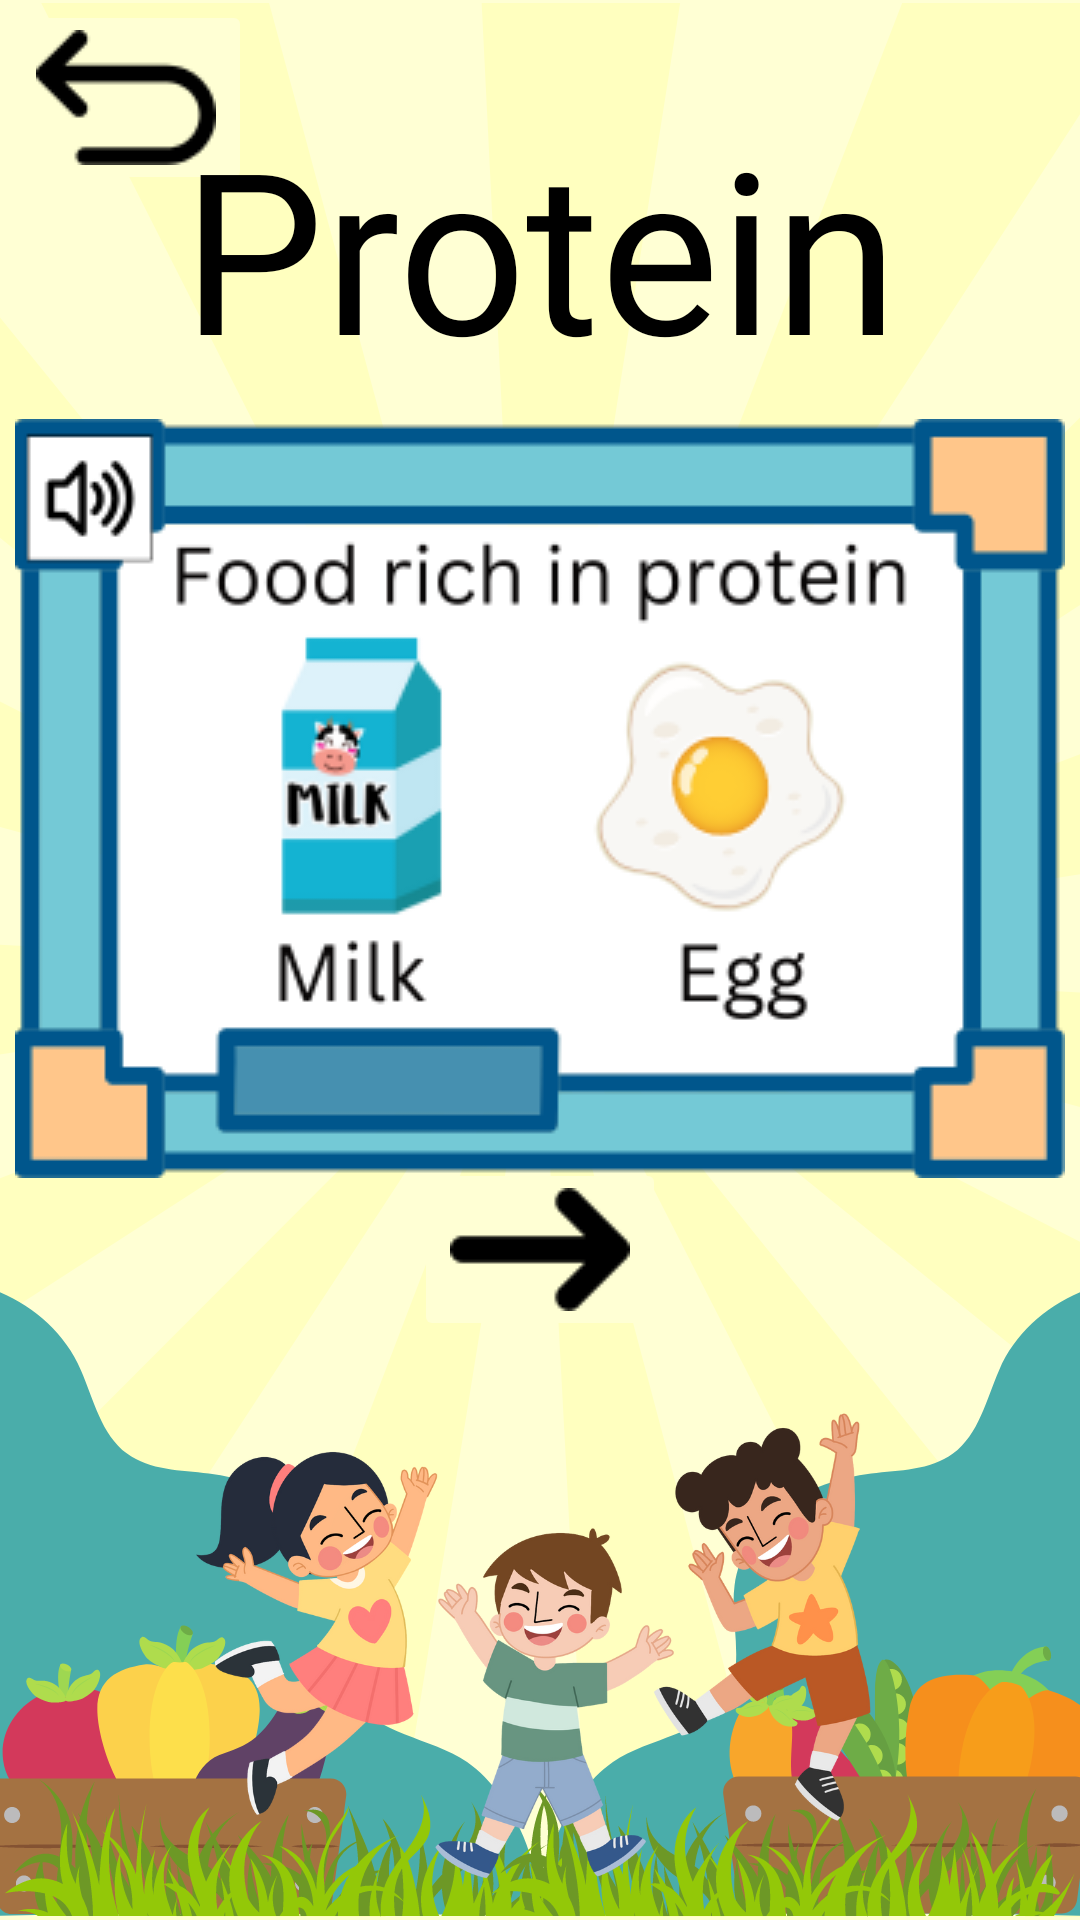

Named icons in this screenshot (1080 × 1920) and their centers, point (x, y):
Back: point (126, 97)
Next button: point (540, 1249)
